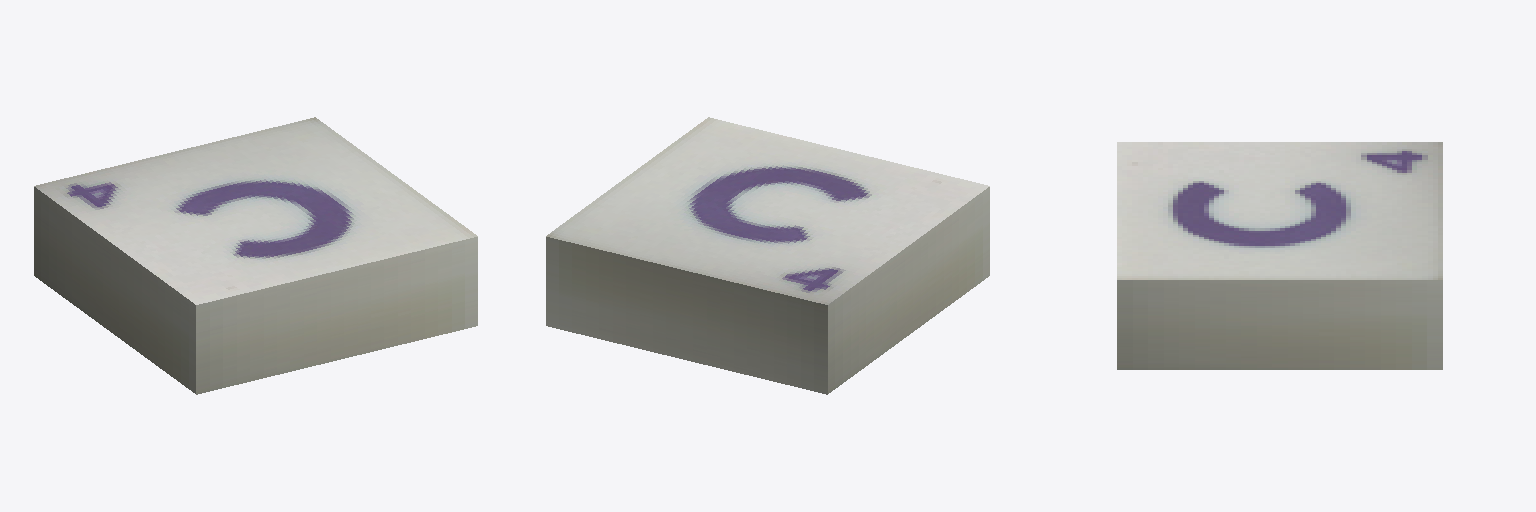
3 renders of one model, left to right at view 1: azimuth 30°, elevation 25°; view 2: azimuth 150°, elevation 25°; view 3: azimuth 270°, elevation 25°, orthographic.
Parts seen in each view (by area): view 1: Cube; view 2: Cube; view 3: Cube.
Part boxes in pixels (x1,y1,x2,y2): Cube: (34,117,477,394); Cube: (546,117,989,394); Cube: (1117,142,1442,369).
Bounding box in the file's own units: 19.89 × 6.03 × 19.89.
3 materials, 3 textured.